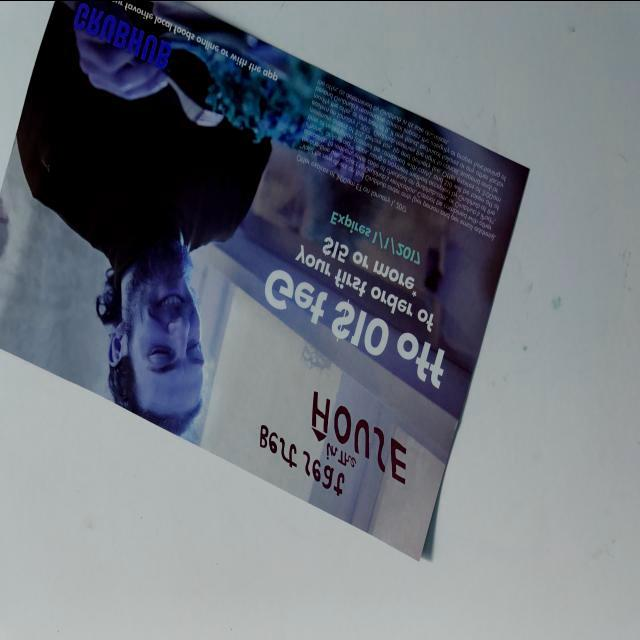paper: (0, 0, 531, 563)
